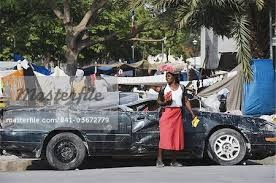Smashed: (4, 97, 272, 158)
